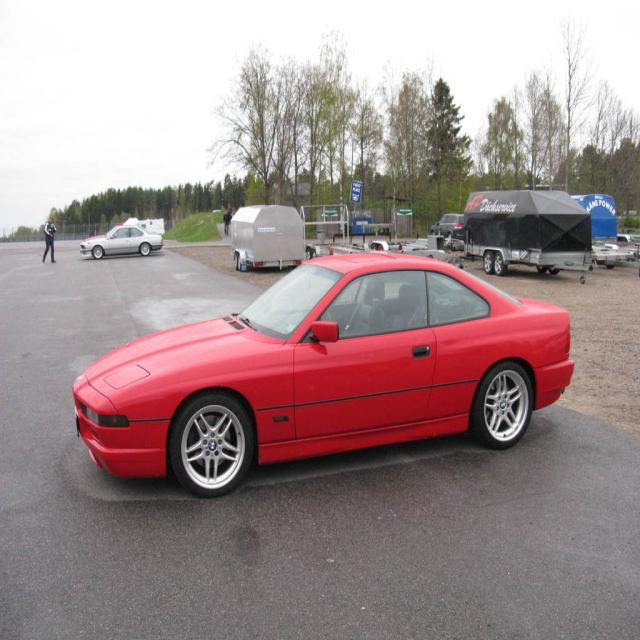car: (58, 246, 580, 491), (78, 217, 163, 260)
